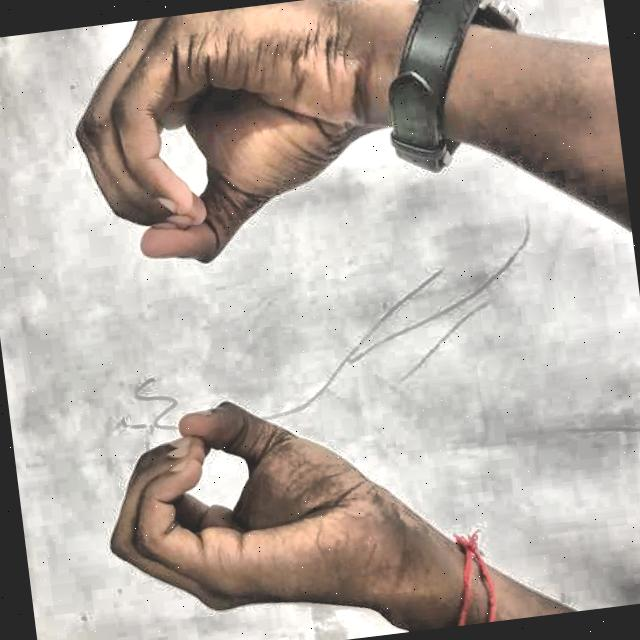Bisharga: (17, 0, 458, 640)
